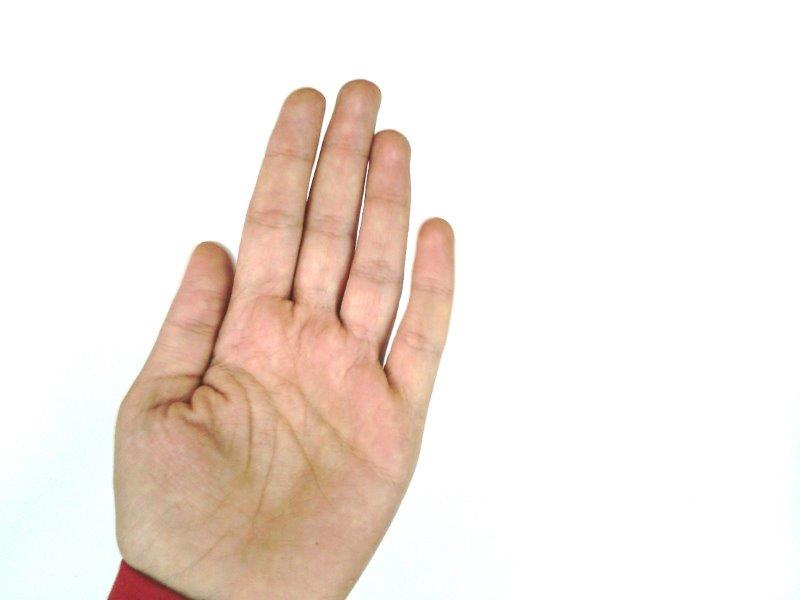hand: (113, 79, 455, 598)
